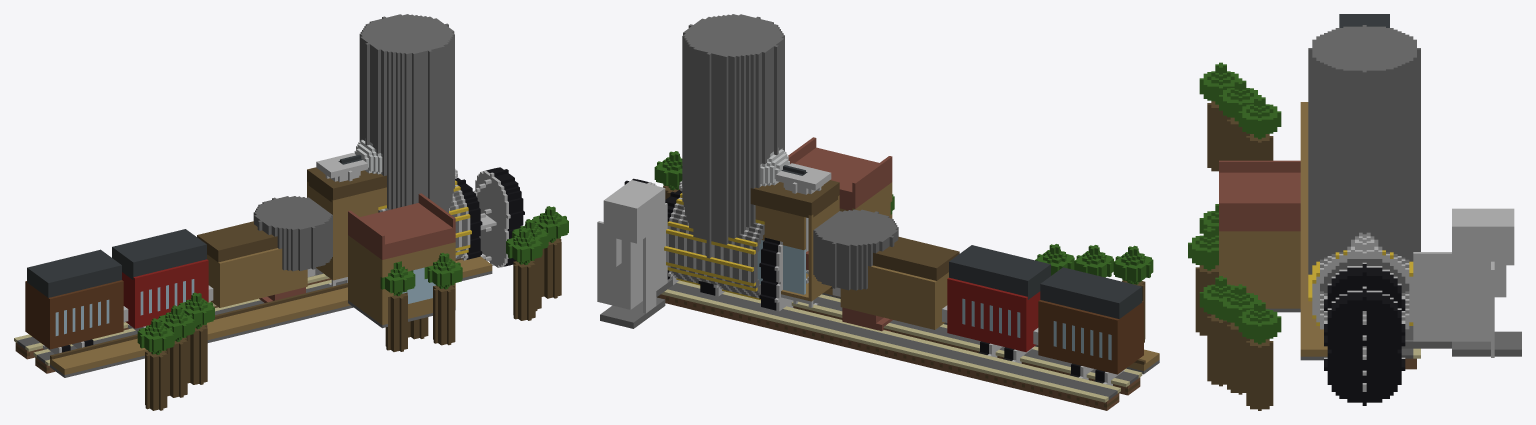
3 renders of one model, left to right at view 1: azimuth 30°, elevation 25°; view 2: azimuth 150°, elevation 25°; view 3: azimuth 270°, elevation 25°, orthographic. The views are drawn at different scales.
Bounding box in the file's own units: 171 × 85 × 86.
